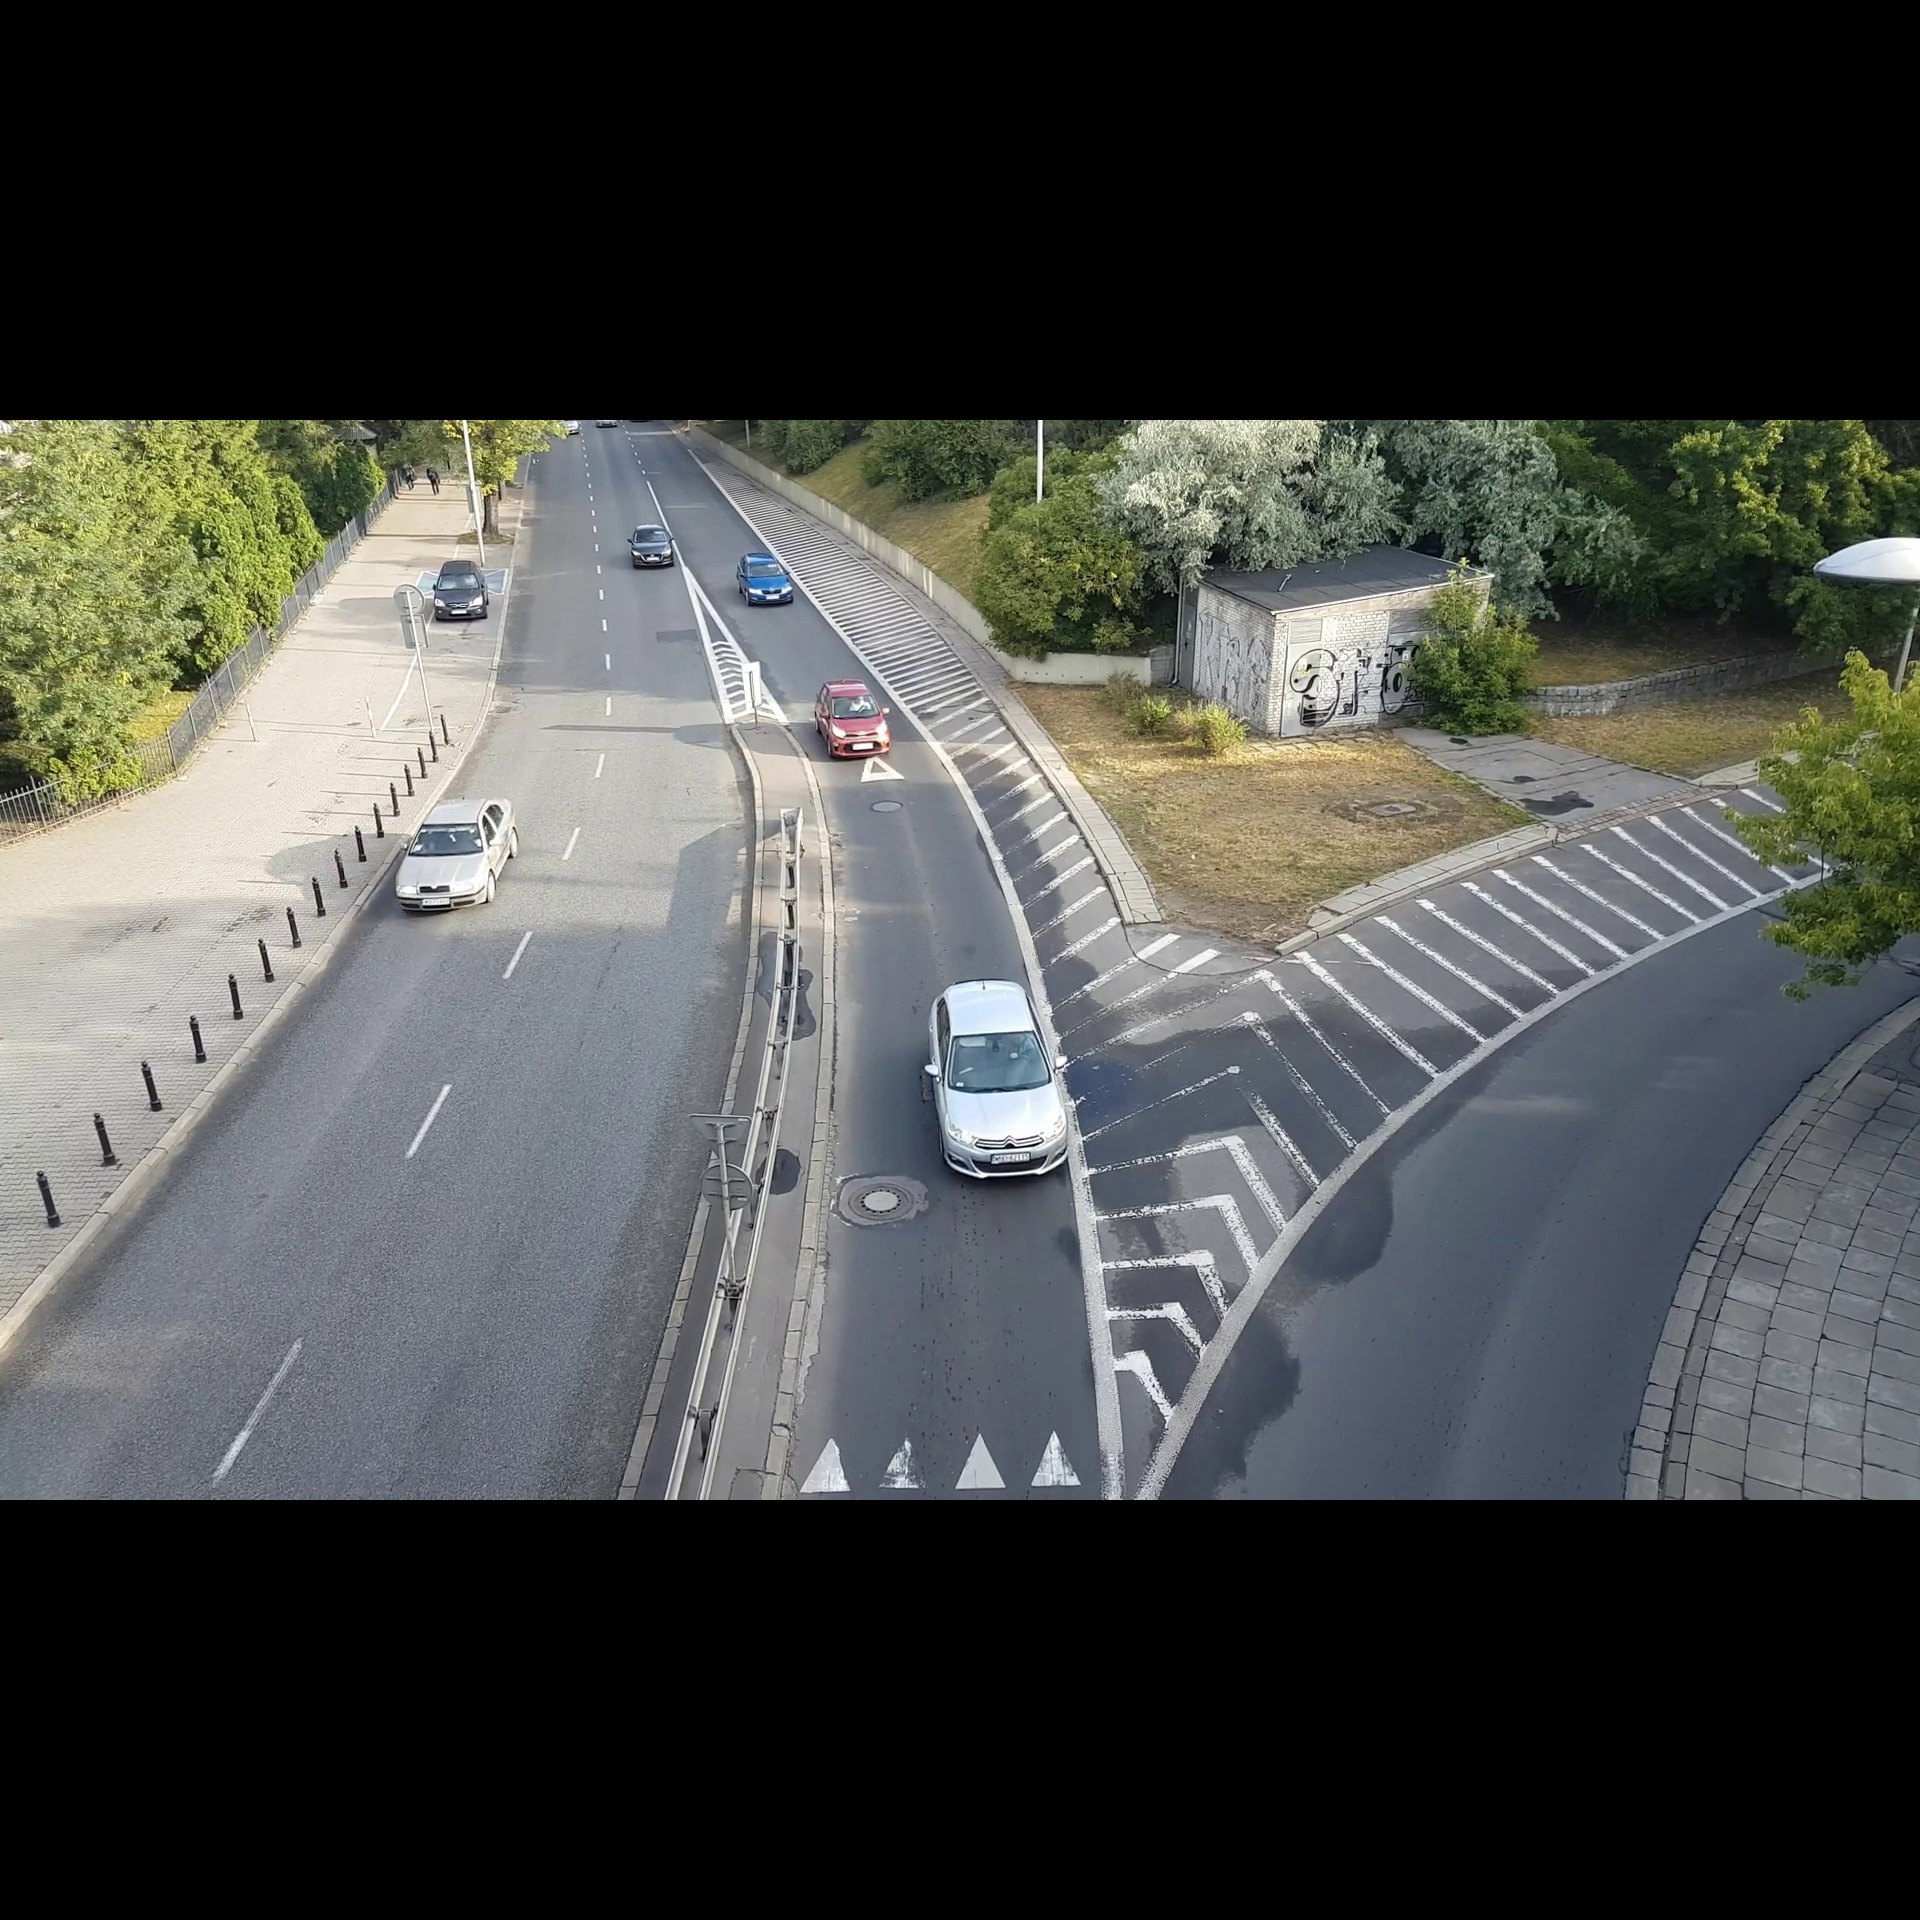vehicle: (920, 965, 1078, 1196), (392, 788, 526, 928), (807, 673, 897, 765), (728, 545, 798, 610), (427, 556, 492, 622), (619, 512, 675, 570)
